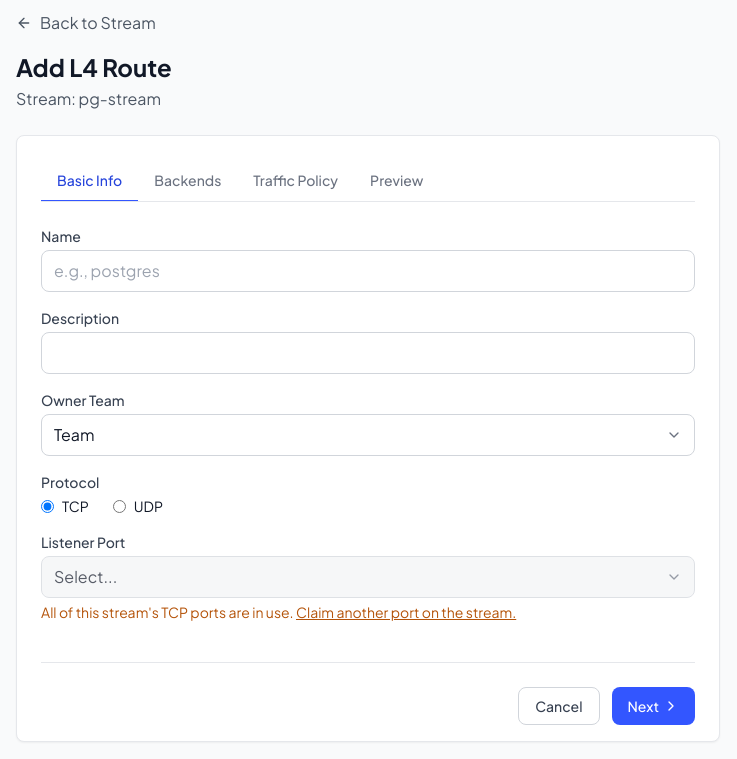
no free claim on the protocol › a stream with claims on the other transport only says it has none on this one
The width and height of the screenshot is (737, 759).
Expected: the field labelled "Name" is shown, [41,250,695,292]
Step 1. Click the radio button labelled "UDP" → (119, 506), box [113,500,126,512]
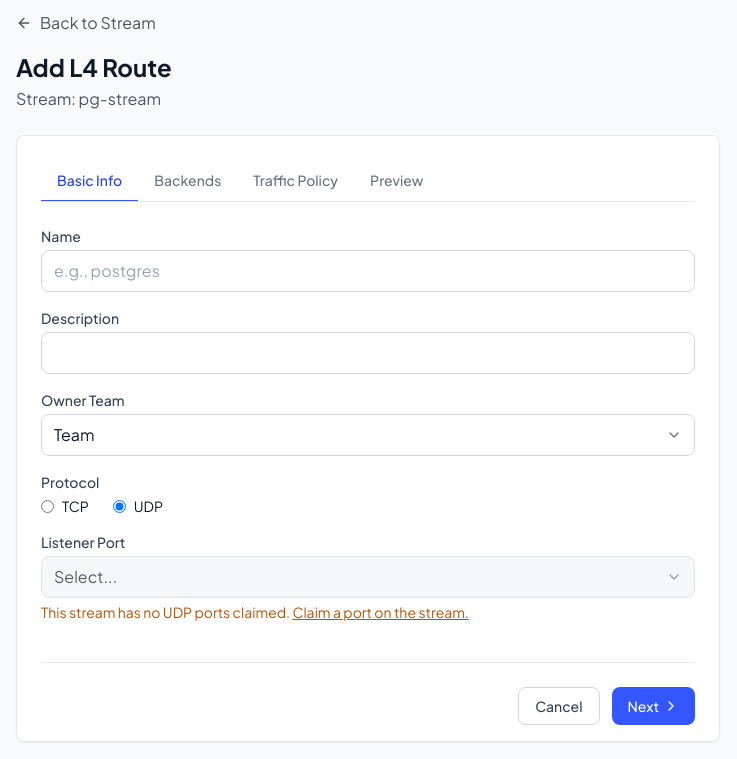
Expected: the element with test id "no-free-ports" reads "This stream has no UDP ports claimed. Claim a port on the stream.", [41,603,469,621]
Expected: the text "ports are in use" is gone
